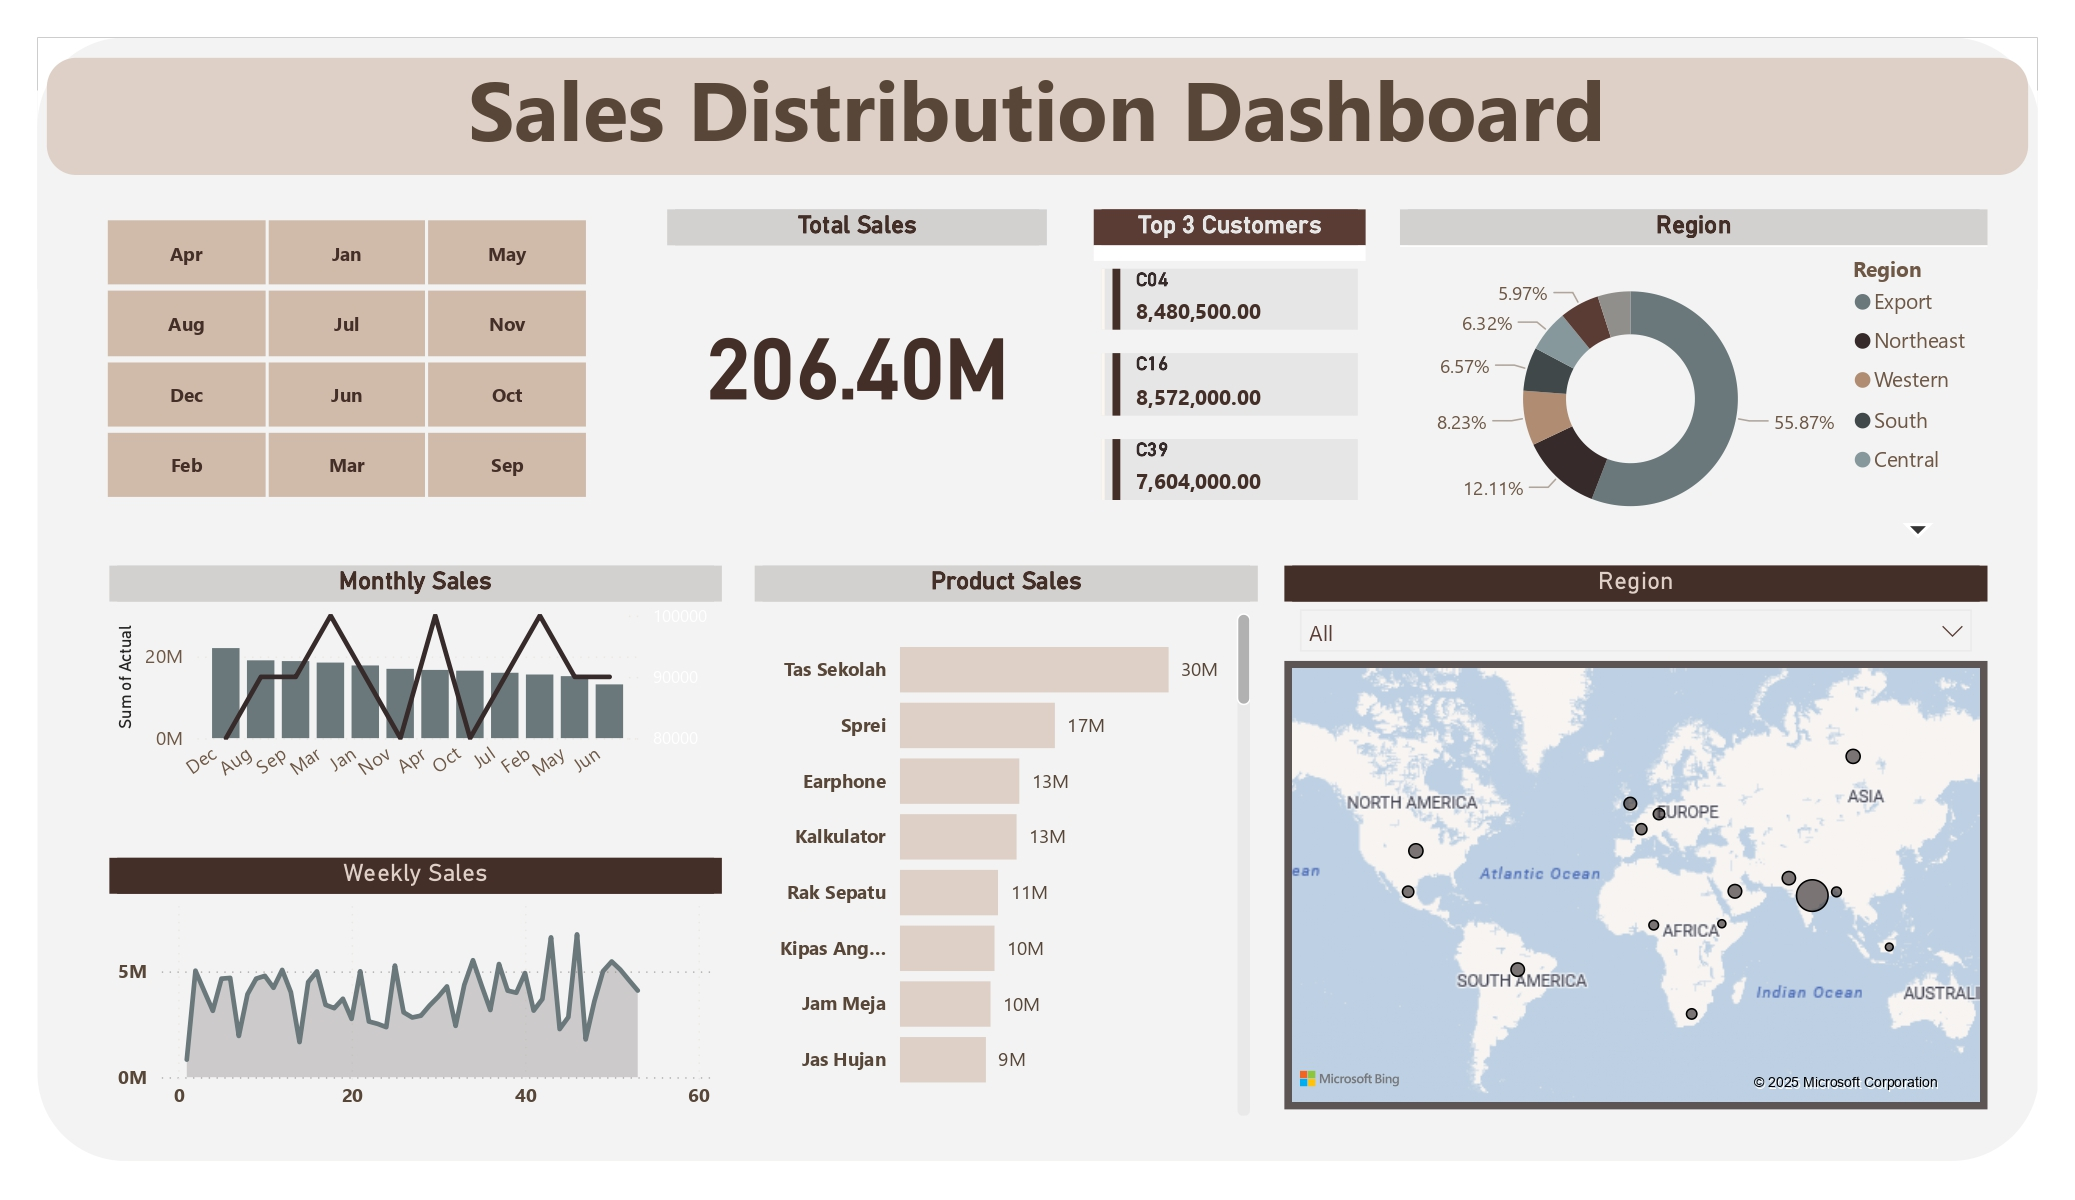

The dashboard page shown, as its layout file describes it:
{"tool":"powerbi","page":{"name":"Sales Dashboard","canvas":[1280,720],"ordinal":0},"visuals":[{"type":"shape","box":[0,0,1280.5,719.5],"z":0},{"type":"slicer","fields":{"Values":["Input.Month Name"]},"box":[19.5,110.4,355.8,190.9],"z":1000},{"type":"card","title":"Total Sales","fields":{"Values":["Sum(Input.Total Price)"]},"box":[402.9,110.4,242.9,171.4],"z":2000},{"type":"slicer","title":"Region","fields":{"Values":["Customer.Region"]},"box":[797.7,337.7,450.6,61],"z":3000},{"type":"lineStackedColumnComboChart","title":"Monthly Sales","fields":{"Category":["Target.Month Name"],"Y":["Sum(Input.Total Price)"],"Y2":["Sum(Target.Target )"]},"box":[45.7,337.7,392.2,157.1],"z":4000},{"type":"areaChart","title":"Weekly Sales","fields":{"Y":["Sum(Input.Total Price)"],"Category":["Input.Week of Year"]},"box":[45.7,524.7,392.2,170.1],"z":5000},{"type":"multiRowCard","title":"Top 3 Customers","fields":{"Values":["Input.Customer ID","Sum(Input.Total Price)"]},"box":[675.6,110.4,174,213],"z":6000},{"type":"donutChart","title":"Region","fields":{"Category":["Customer.Region"],"Y":["Sum(Input.Total Price)"]},"box":[871.7,110.4,376.6,216.9],"z":7000},{"type":"map","fields":{"Category":["Customer.Country"],"Size":["Sum(Input.Total Price)"]},"box":[797.7,398.7,450.6,287],"z":8000},{"type":"barChart","title":"Product Sales","fields":{"Y":["Sum(Input.Actual)"],"Category":["Input.Product"]},"box":[458.7,337.7,322.1,357.1],"z":9000},{"type":"shape","box":[6.5,13,1267.5,75.3],"z":10000},{"type":"textbox","box":[159.7,2.6,959.7,96.1],"z":11000}]}

Visuals, with their boxes on the page's 1280x720 design canvas (x1, y1, x2, y2). These are canvas units, not pixel positions in the 2075x1200 screenshot, which may show the page scaled, cropped or inside an application window:
shape: 0,0,1280,720
slicer - Input.Month Name: 20,110,375,301
"Total Sales" card: 403,110,646,282
"Region" slicer: 798,338,1248,399
"Monthly Sales" lineStackedColumnComboChart: 46,338,438,495
"Weekly Sales" areaChart: 46,525,438,695
"Top 3 Customers" multiRowCard: 676,110,850,323
"Region" donutChart: 872,110,1248,327
map - Customer.Country x Sum(Input.Total Price): 798,399,1248,686
"Product Sales" barChart: 459,338,781,695
shape: 6,13,1274,88
textbox: 160,3,1119,99
